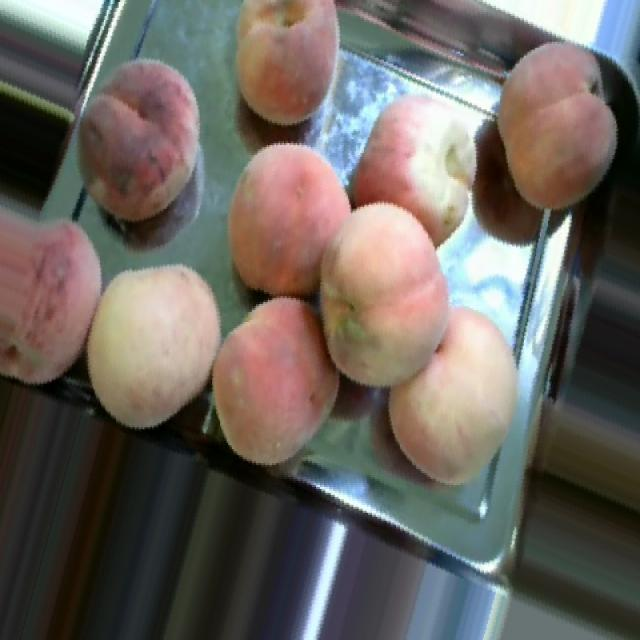Fruit: (281, 177, 475, 411), (365, 290, 540, 505), (60, 241, 239, 451), (52, 40, 227, 244), (203, 121, 376, 324), (206, 278, 362, 483), (474, 22, 630, 226), (341, 76, 503, 270), (0, 174, 129, 413), (207, 0, 361, 145)
